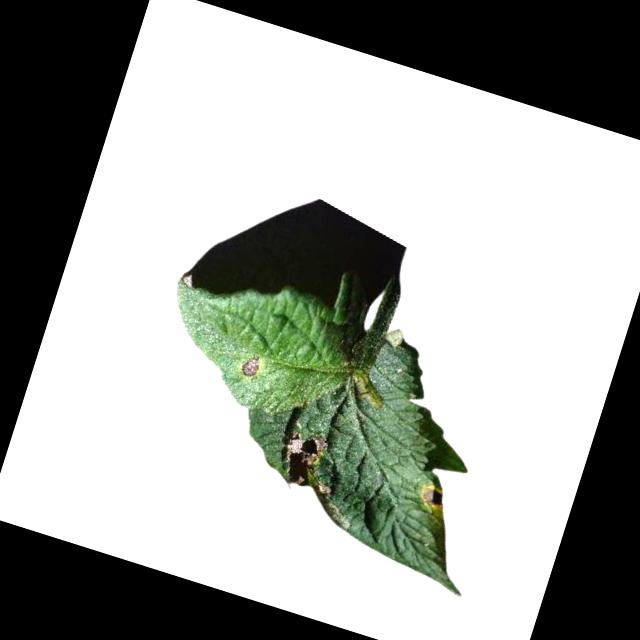Early_blight: (273, 426, 346, 500), (417, 482, 449, 514), (240, 352, 262, 380)
